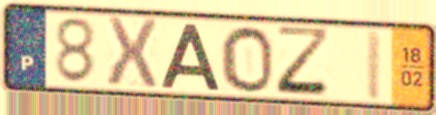8: (52, 15, 98, 86)
A: (157, 22, 222, 92)
I: (363, 28, 385, 103)
O: (218, 23, 276, 95)
X: (104, 14, 160, 90)
Z: (274, 24, 334, 100)
